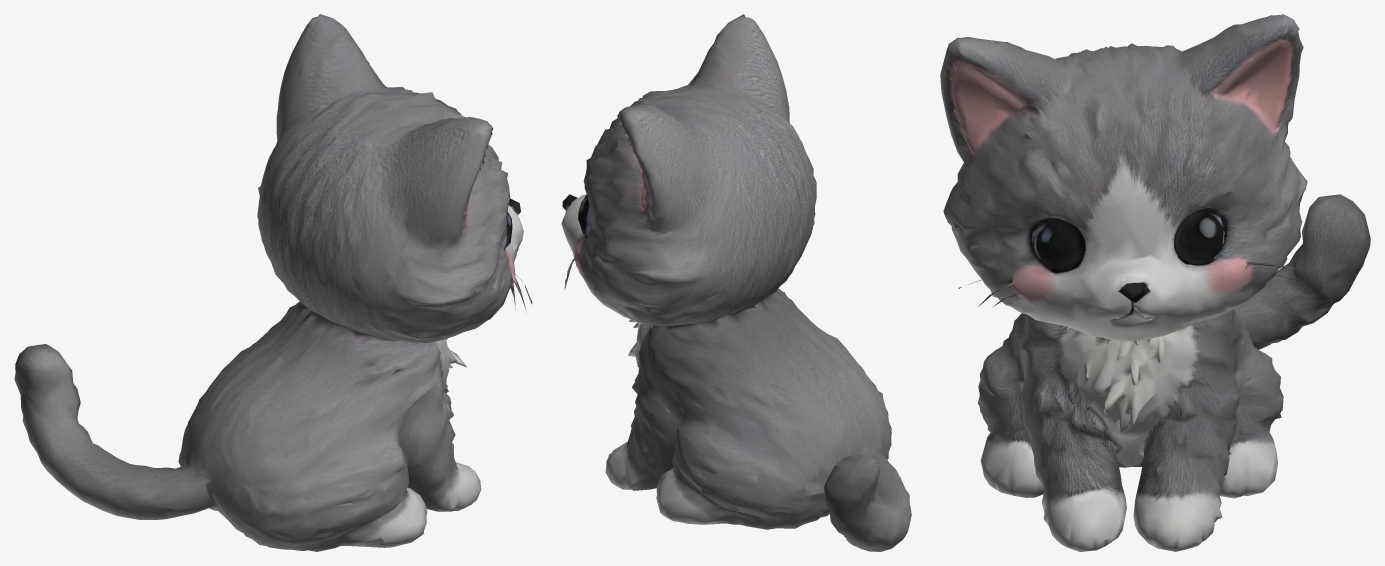
Rendered from cat.glb.
The picture shows the model from 3 angles, left to right: view 1: azimuth 30°, elevation 25°; view 2: azimuth 150°, elevation 25°; view 3: azimuth 270°, elevation 25°; orthographic projection. The views are drawn at different scales.
Parts seen in each view (by area): view 1: tripo_node_d8c74be4-b628-4466-8bd7-3f38c6c79549; view 2: tripo_node_d8c74be4-b628-4466-8bd7-3f38c6c79549; view 3: tripo_node_d8c74be4-b628-4466-8bd7-3f38c6c79549.
Boxes of the visible parts, x1,y1,x2,y2 form: tripo_node_d8c74be4-b628-4466-8bd7-3f38c6c79549: (14, 14, 532, 551); tripo_node_d8c74be4-b628-4466-8bd7-3f38c6c79549: (561, 14, 911, 551); tripo_node_d8c74be4-b628-4466-8bd7-3f38c6c79549: (940, 14, 1370, 551).
Bounding box in the file's own units: 0.9959 × 1 × 0.7766.
Materials: 1 (1 with a texture image).
